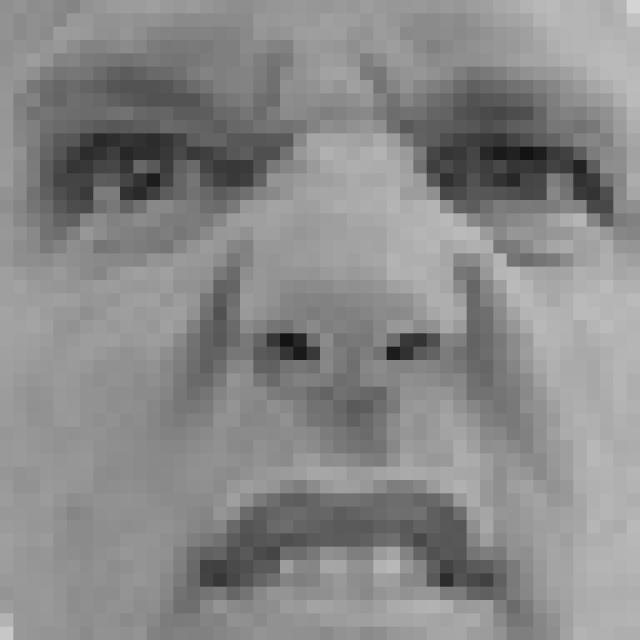disgust: (24, 66, 629, 638)
